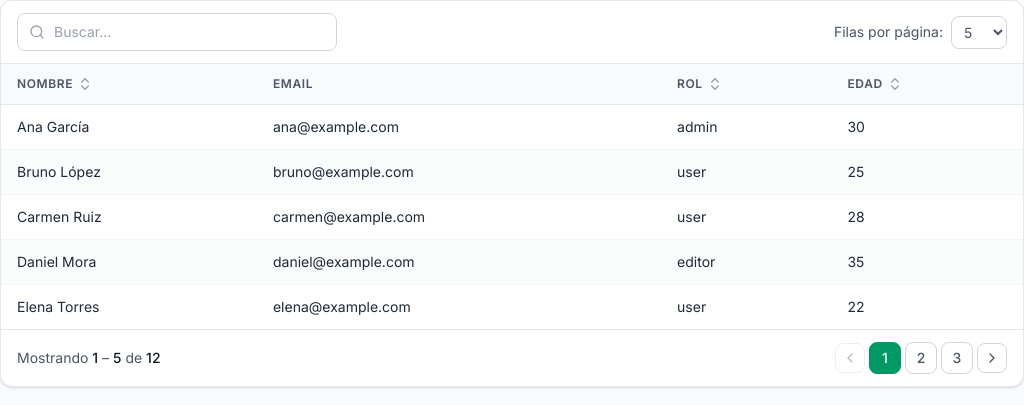
DataTable — Paginación › navega a la página siguiente al hacer clic en 'siguiente'
expect the text "Ana García" is shown: met, box x1=1 y1=104 x2=257 y2=150
Click the button named "página siguiente" at x=992, y=358, box x1=977 y1=343 x2=1007 y2=373
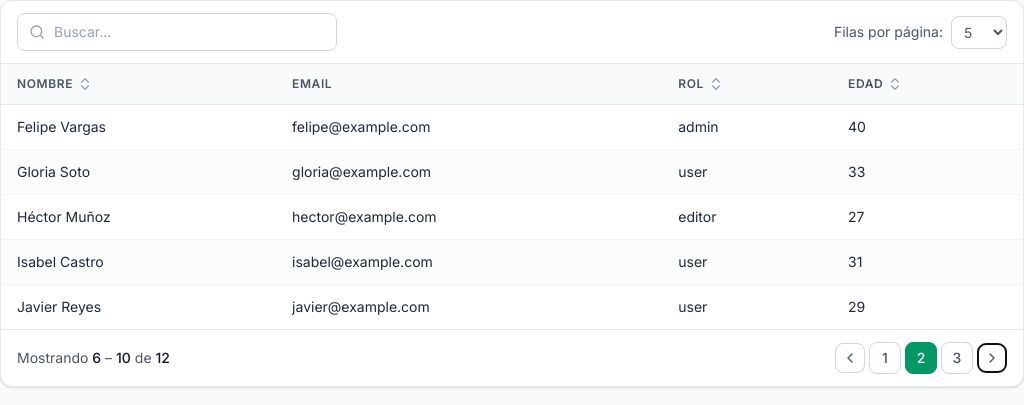
expect the text "Ana García" is gone: met
expect the text "Felipe Vargas" is shown: met, box x1=1 y1=104 x2=276 y2=150
